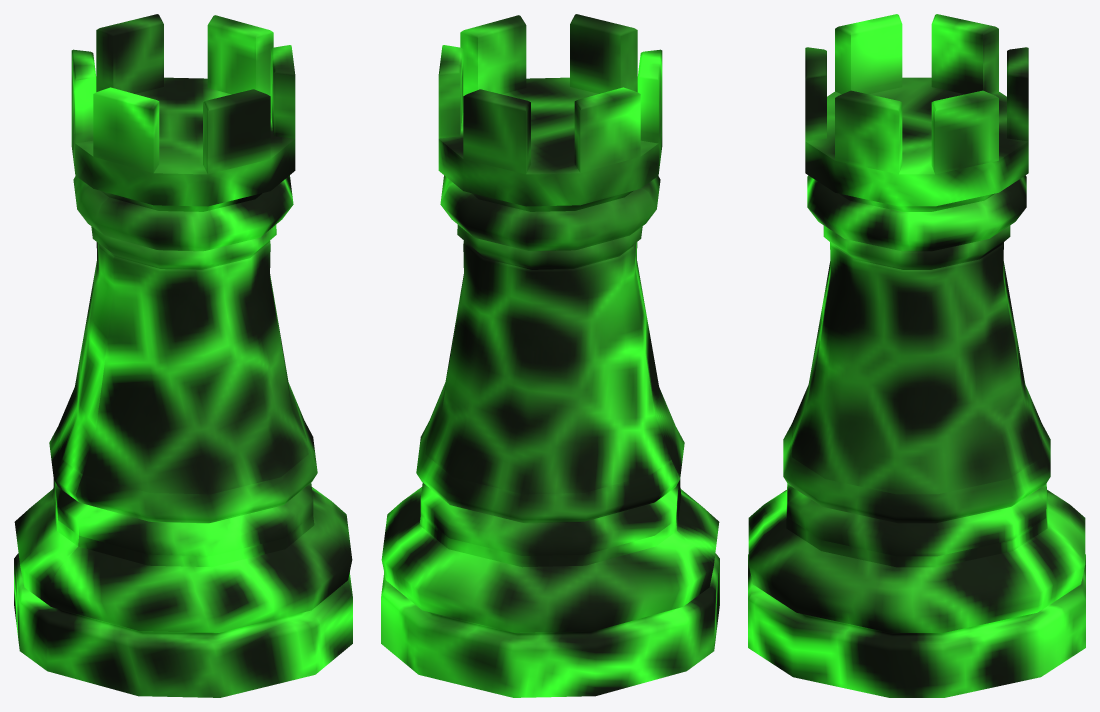
The model's file is item-3-8.glb.
The picture shows the model from 3 angles, left to right: view 1: azimuth 30°, elevation 25°; view 2: azimuth 150°, elevation 25°; view 3: azimuth 270°, elevation 25°; orthographic projection.
Visible parts, largest first — view 1: BlackTower; view 2: BlackTower; view 3: BlackTower.
Boxes of the visible parts, x1,y1,x2,y2 form: BlackTower: (14,14,352,697); BlackTower: (381,14,719,697); BlackTower: (748,14,1085,697).
Size of the model in its own units: 0.092 by 0.1651 by 0.0897.
1 material, 1 textured.
